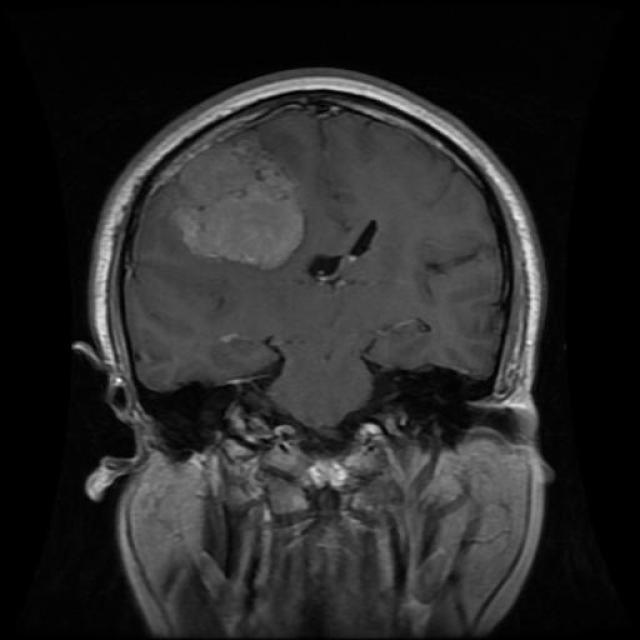meningioma: (178, 144, 301, 270)
